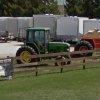Tractor: (12, 23, 80, 67)
